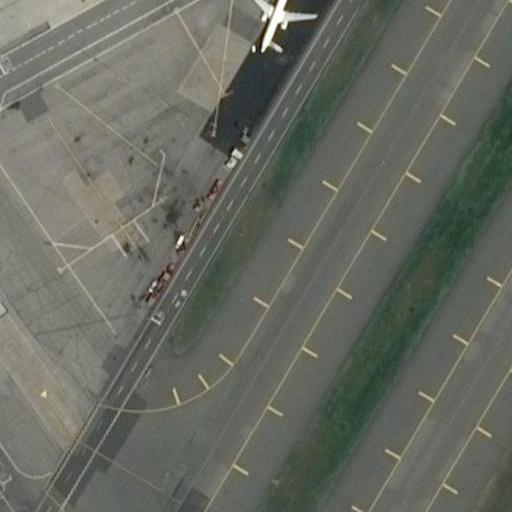Aircraft: (232, 0, 319, 52)
